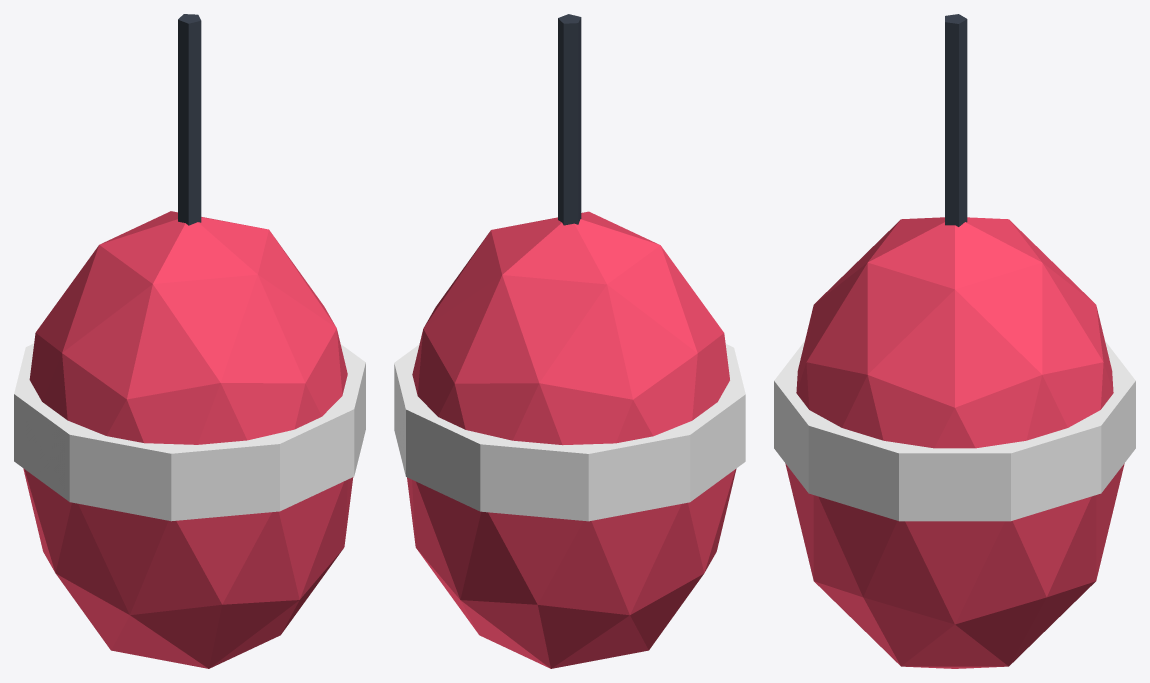
The model's file is Surfing_Buoy.fbx.
3 views of the same model, side by side, from view 1: azimuth 30°, elevation 25°; view 2: azimuth 150°, elevation 25°; view 3: azimuth 270°, elevation 25° (orthographic).
Visible parts, largest first — view 1: Buoy; view 2: Buoy; view 3: Buoy.
Part boxes in pixels (x1,y1,x2,y2): Buoy: [14, 14, 365, 668]; Buoy: [394, 14, 745, 668]; Buoy: [774, 14, 1135, 668].
Size of the model in its own units: 0.5516 by 1.15 by 0.58.
